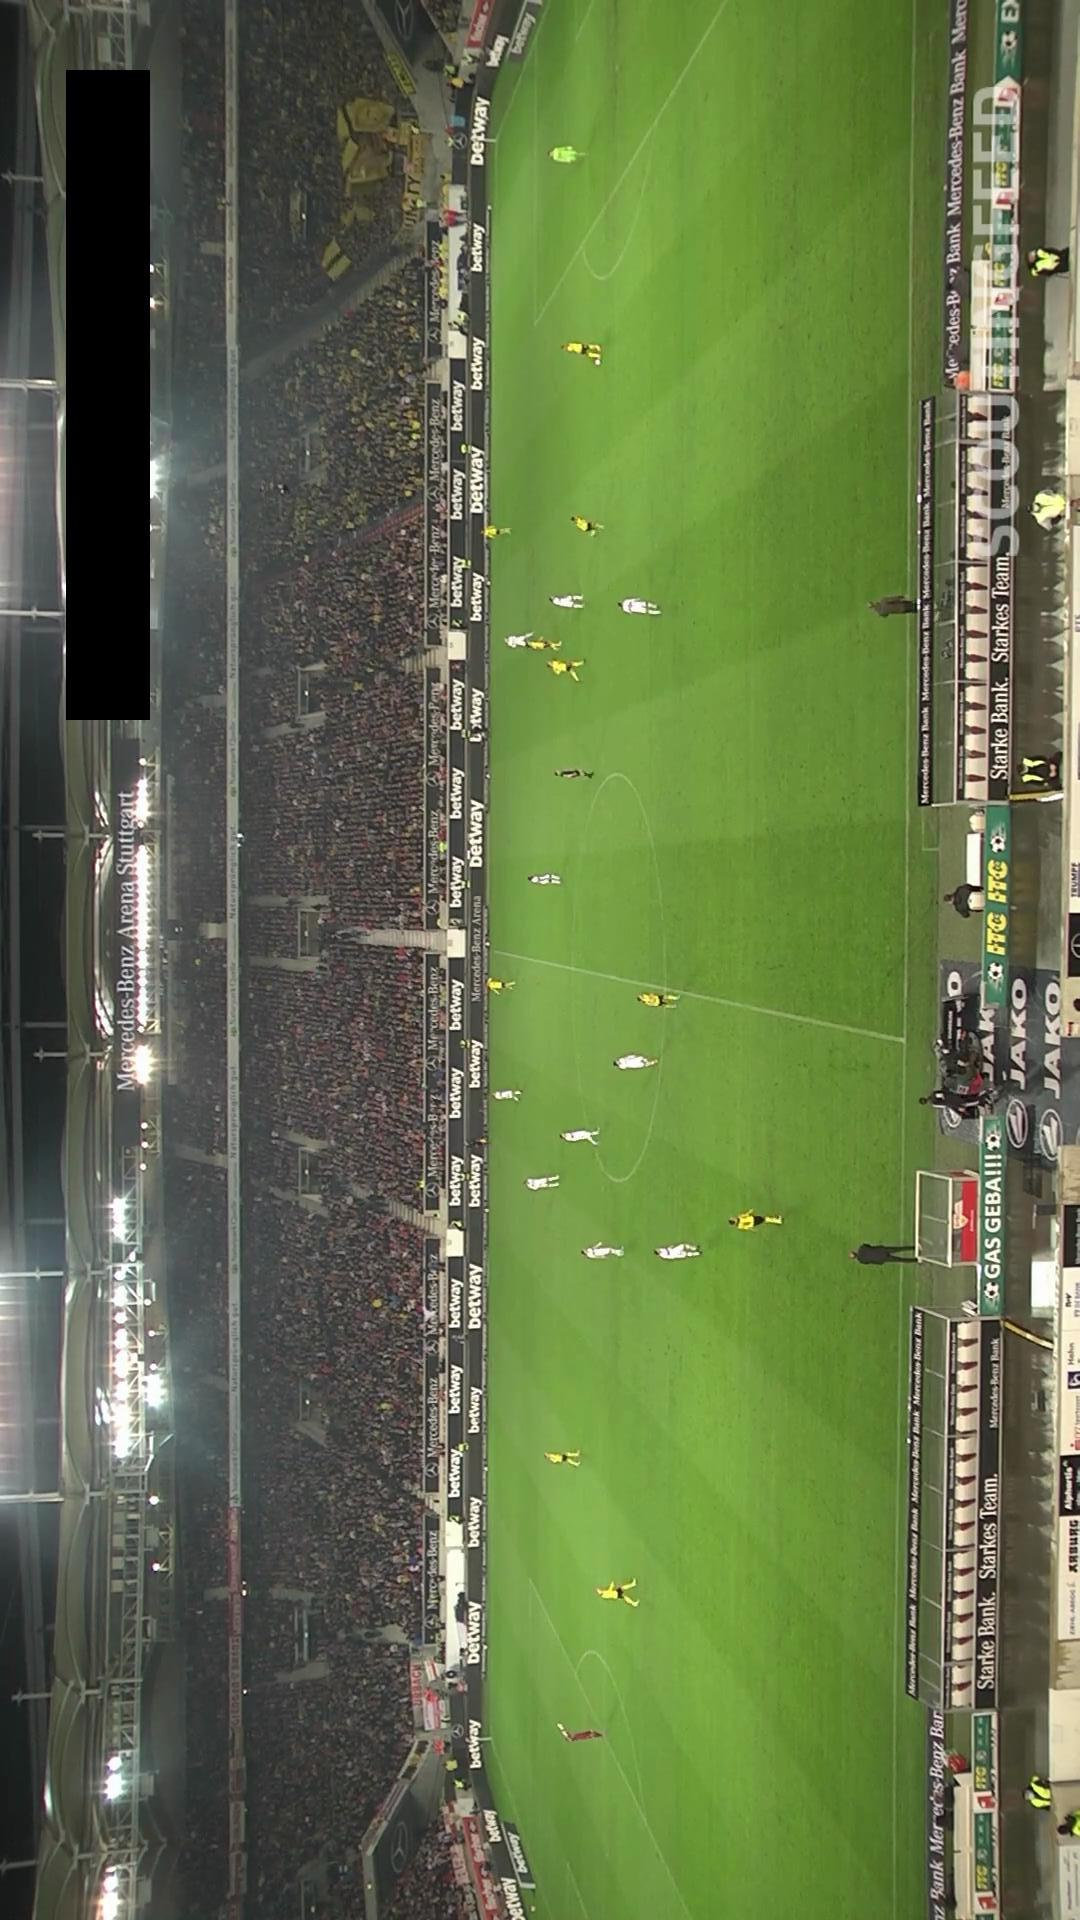ball: (592, 358, 603, 366)
goalkeeper: (556, 1724, 604, 1743), (546, 145, 589, 163)
player: (593, 1577, 639, 1607), (728, 1209, 783, 1230), (569, 515, 607, 542), (545, 658, 586, 682), (557, 1126, 601, 1146), (652, 1243, 702, 1260), (612, 1053, 659, 1071), (616, 598, 662, 616), (560, 341, 601, 361), (580, 1242, 624, 1259), (502, 630, 538, 650), (635, 992, 679, 1008), (542, 1449, 581, 1467), (523, 1174, 560, 1191), (525, 635, 563, 651), (548, 594, 584, 609), (485, 977, 516, 994), (526, 872, 562, 885), (479, 525, 512, 538), (491, 1088, 522, 1101)
referee: (553, 768, 596, 781), (462, 1136, 491, 1149)
